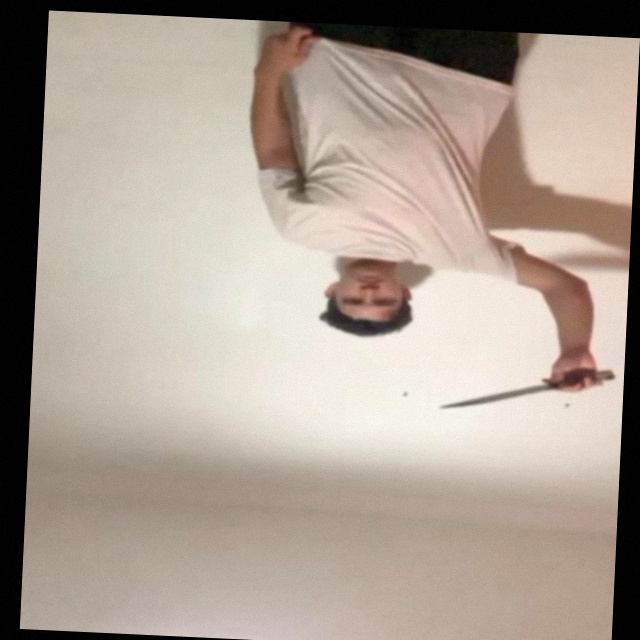Sharp-Object: (435, 382, 544, 414)
